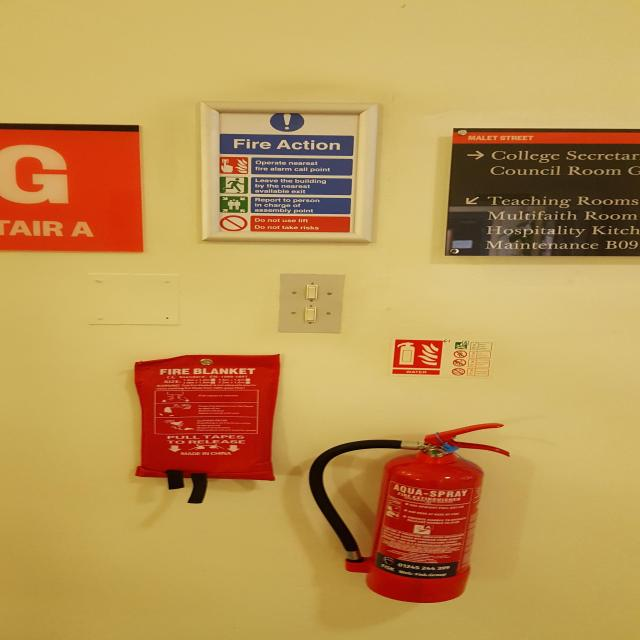fire_extinguisher: (303, 421, 516, 606)
